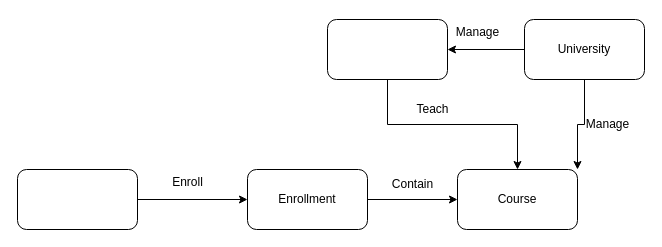
This 662x247 diagram has some shape labels left out. The box of each missing label's shape, as (x1, y1, x2, y2) in pixels:
Student: (16, 168, 138, 230)
Teacher: (326, 18, 448, 80)
